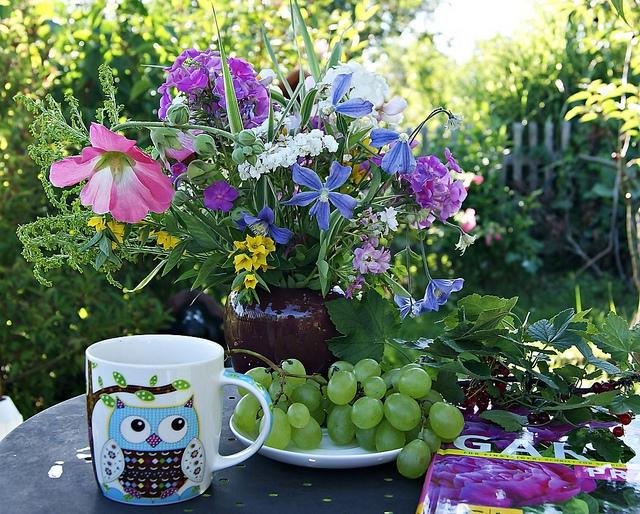grape: (383, 392, 422, 431), (258, 408, 292, 450), (396, 439, 431, 479), (429, 402, 464, 438), (327, 403, 356, 444), (233, 392, 262, 432), (350, 396, 384, 430), (356, 412, 386, 450), (290, 416, 322, 450), (390, 364, 427, 393), (327, 370, 357, 405), (238, 367, 273, 397), (398, 368, 432, 398), (375, 419, 405, 452), (290, 382, 322, 412), (426, 416, 460, 443), (352, 358, 381, 388), (280, 358, 306, 388), (416, 389, 444, 415), (268, 377, 294, 402), (286, 402, 310, 428), (418, 429, 441, 454), (364, 376, 387, 399), (306, 376, 328, 400), (328, 361, 355, 380), (380, 368, 402, 390), (404, 424, 421, 446), (310, 406, 326, 426)
